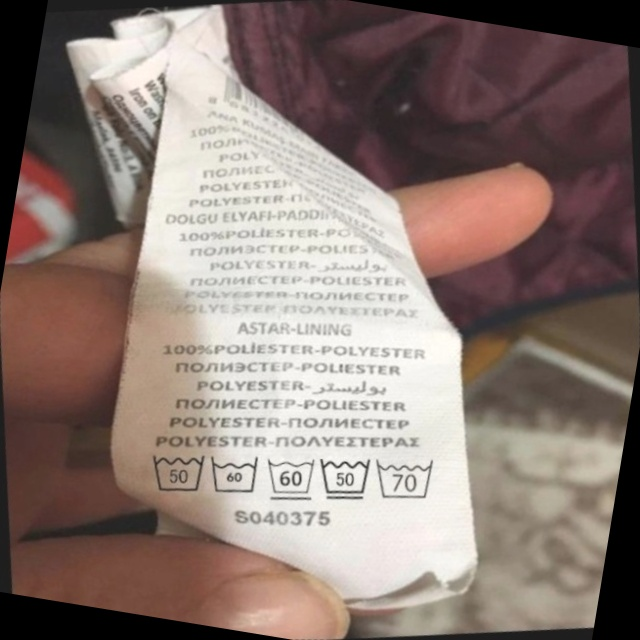50C: (137, 435, 218, 508), (309, 443, 384, 514)
60C: (257, 443, 328, 511), (200, 442, 272, 508)
70C: (368, 444, 449, 513)
